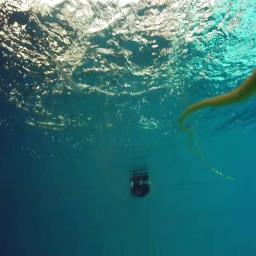Side: (130, 182, 150, 198)
